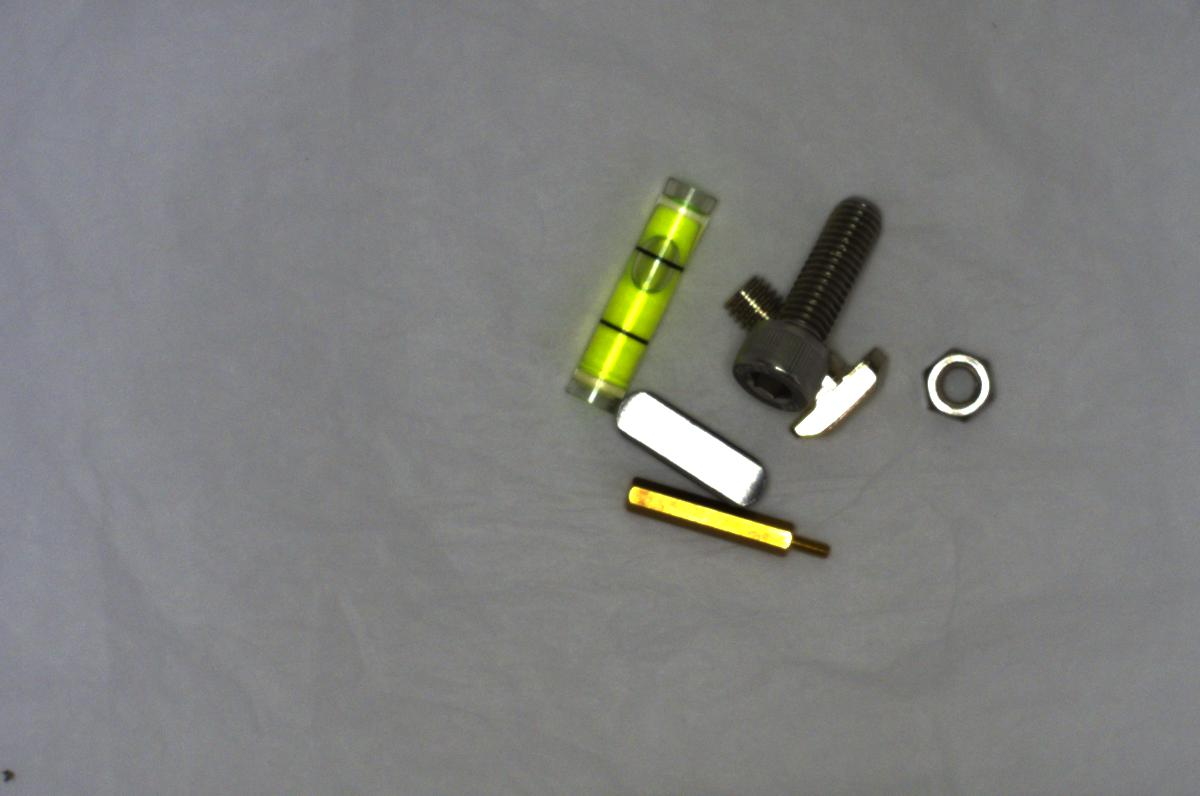Hexagon nut: (906, 340, 1006, 430)
Hexagon pillar: (610, 463, 834, 574)
Hexagon screw: (733, 187, 905, 417)
Horizontal bubble: (551, 158, 725, 424)
Keybar: (605, 385, 783, 517)
T-shaped screw: (714, 267, 901, 449)
